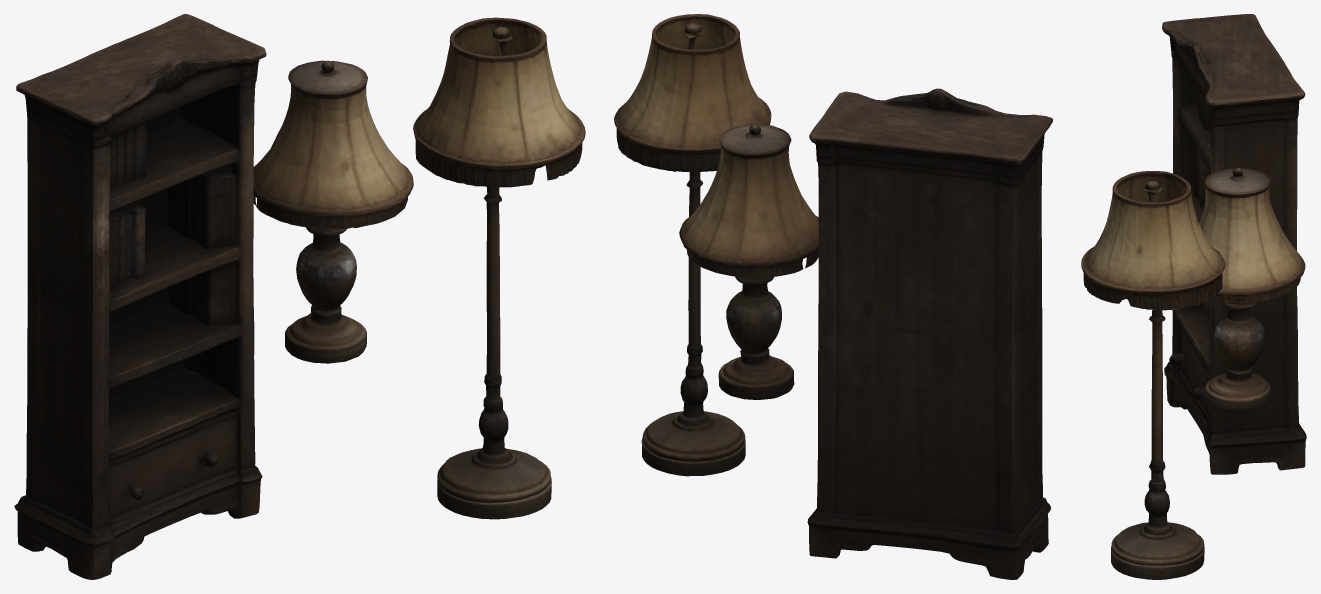
File: bookcase_fancy_lamp_fancy_tall_lamp.glb
The picture shows the model from 3 angles, left to right: view 1: azimuth 30°, elevation 25°; view 2: azimuth 150°, elevation 25°; view 3: azimuth 270°, elevation 25°; orthographic projection. The views are drawn at different scales.
Visible parts, largest first — view 1: geometry_0; view 2: geometry_0; view 3: geometry_0.
Boxes of the visible parts, x1=… form: geometry_0: x1=14, y1=14, x2=585, y2=579; geometry_0: x1=614, y1=14, x2=1052, y2=579; geometry_0: x1=1081, y1=14, x2=1306, y2=579.
Bounding box in the file's own units: 0.9991 × 0.946 × 0.4863.
1 material, 1 textured.
